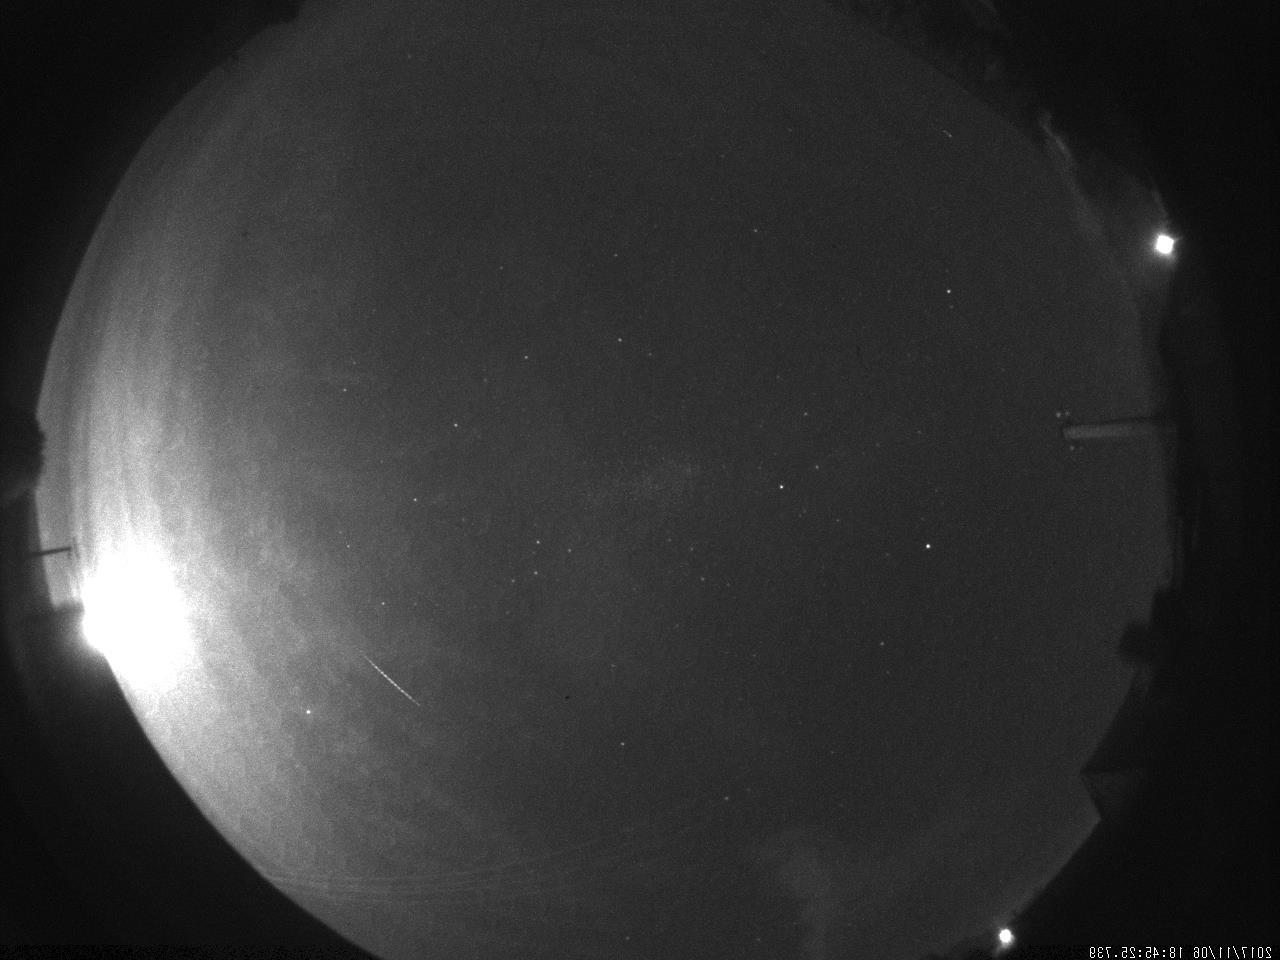meteor: (358, 647, 426, 711)
